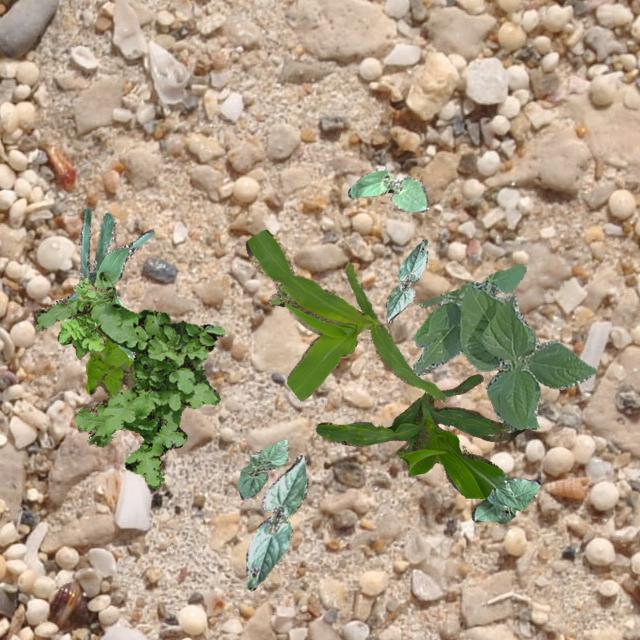crop: (245, 228, 448, 402), (412, 262, 596, 430), (315, 372, 525, 498), (60, 206, 154, 358), (244, 454, 306, 590), (346, 166, 428, 212), (384, 238, 426, 322), (470, 477, 540, 522), (236, 438, 288, 498)
weed: (32, 296, 222, 488), (56, 276, 115, 358), (84, 334, 134, 396), (268, 280, 292, 306)
